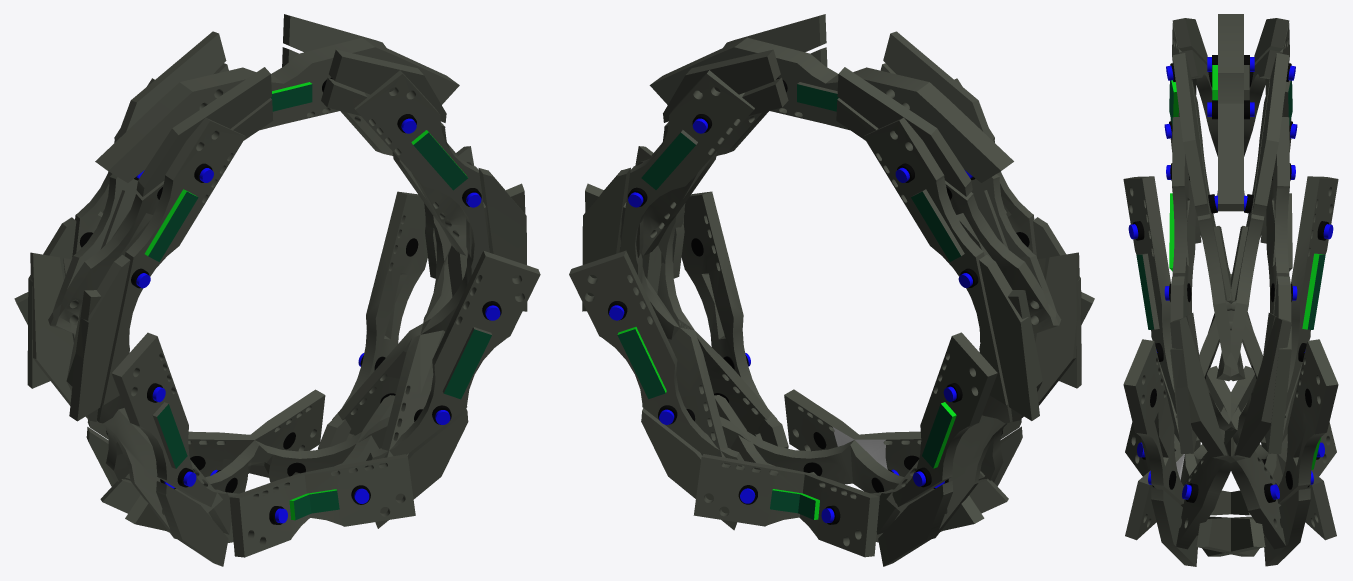
The model's file is warpgate.fbx.
3 views of the same model, side by side, from view 1: azimuth 30°, elevation 25°; view 2: azimuth 150°, elevation 25°; view 3: azimuth 270°, elevation 25° (orthographic).
Visible parts, largest first — view 1: Gate, Parts; view 2: Gate, Parts; view 3: Gate, Parts.
Part boxes in pixels (bbox=[...]): Gate: bbox=[14, 14, 540, 566]; Parts: bbox=[79, 77, 501, 524]; Gate: bbox=[569, 14, 1094, 566]; Parts: bbox=[608, 77, 1029, 524]; Gate: bbox=[1123, 14, 1338, 566]; Parts: bbox=[1128, 55, 1333, 502].
Size of the model in its own units: 2347 by 957 by 2419.
